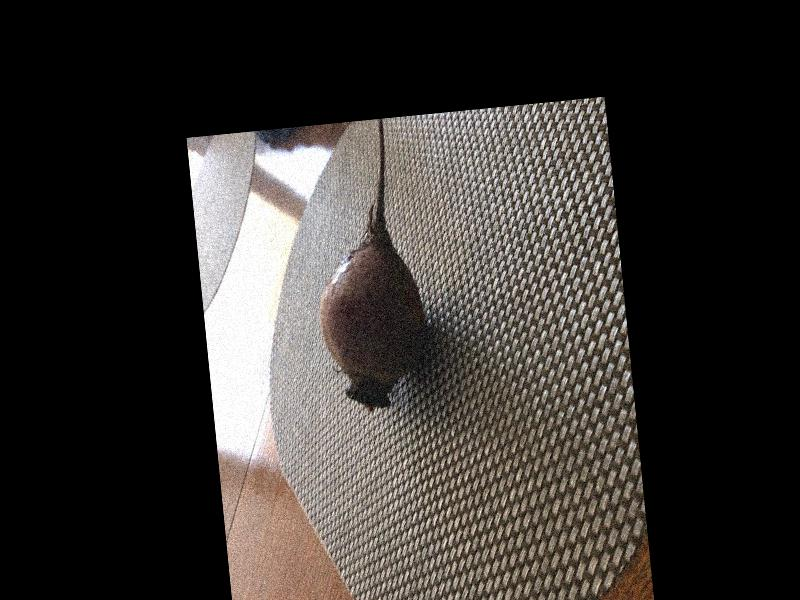Beet: (302, 119, 431, 413)
